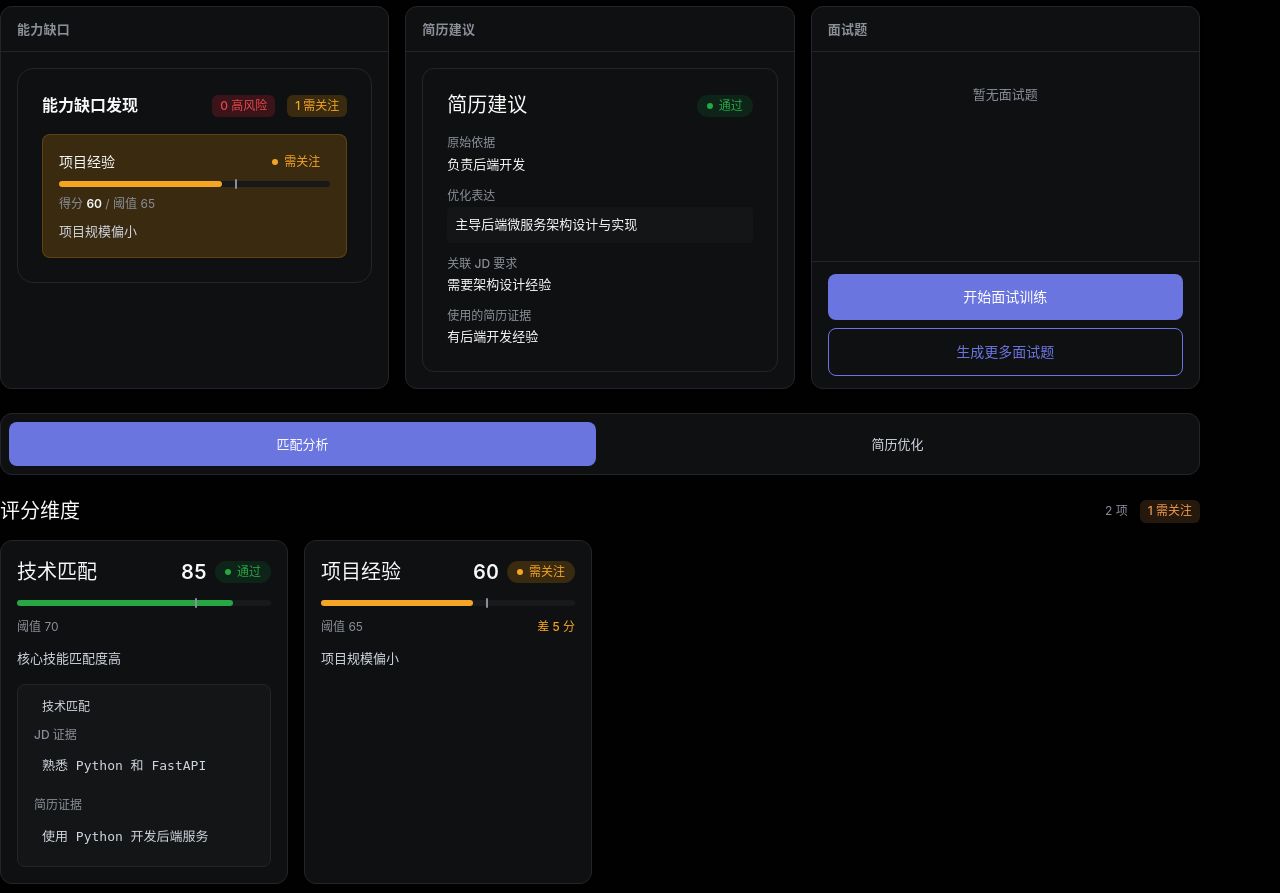
Test: ReportView › Integrity Guard › 有拦截时渲染 ResumeSuggestionReview 组件（切换到简历优化 Tab）
(page scrolled)
Click the tab with class "dashboard__tab" showing "简历优化".
click(898, 444)  # box [604, 422, 1191, 466]
(page scrolled)
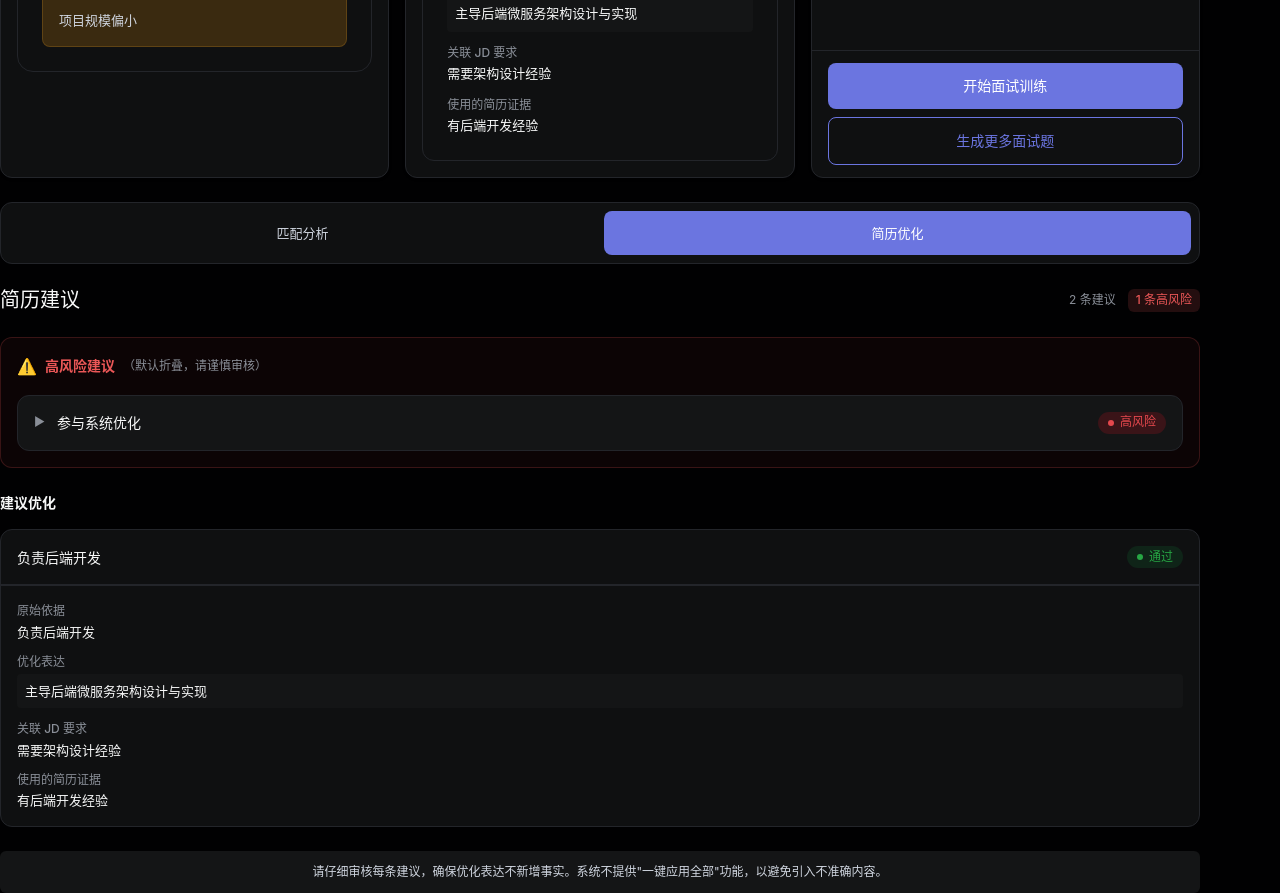
Check: the element named "简历建议审核" is shown
